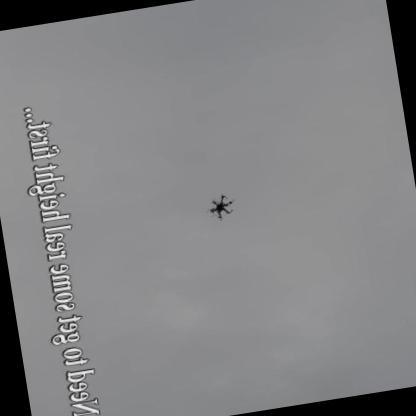drone: (196, 184, 252, 232)
